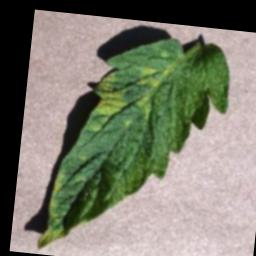Leaf_Mold: (92, 66, 132, 125), (136, 59, 175, 91)
